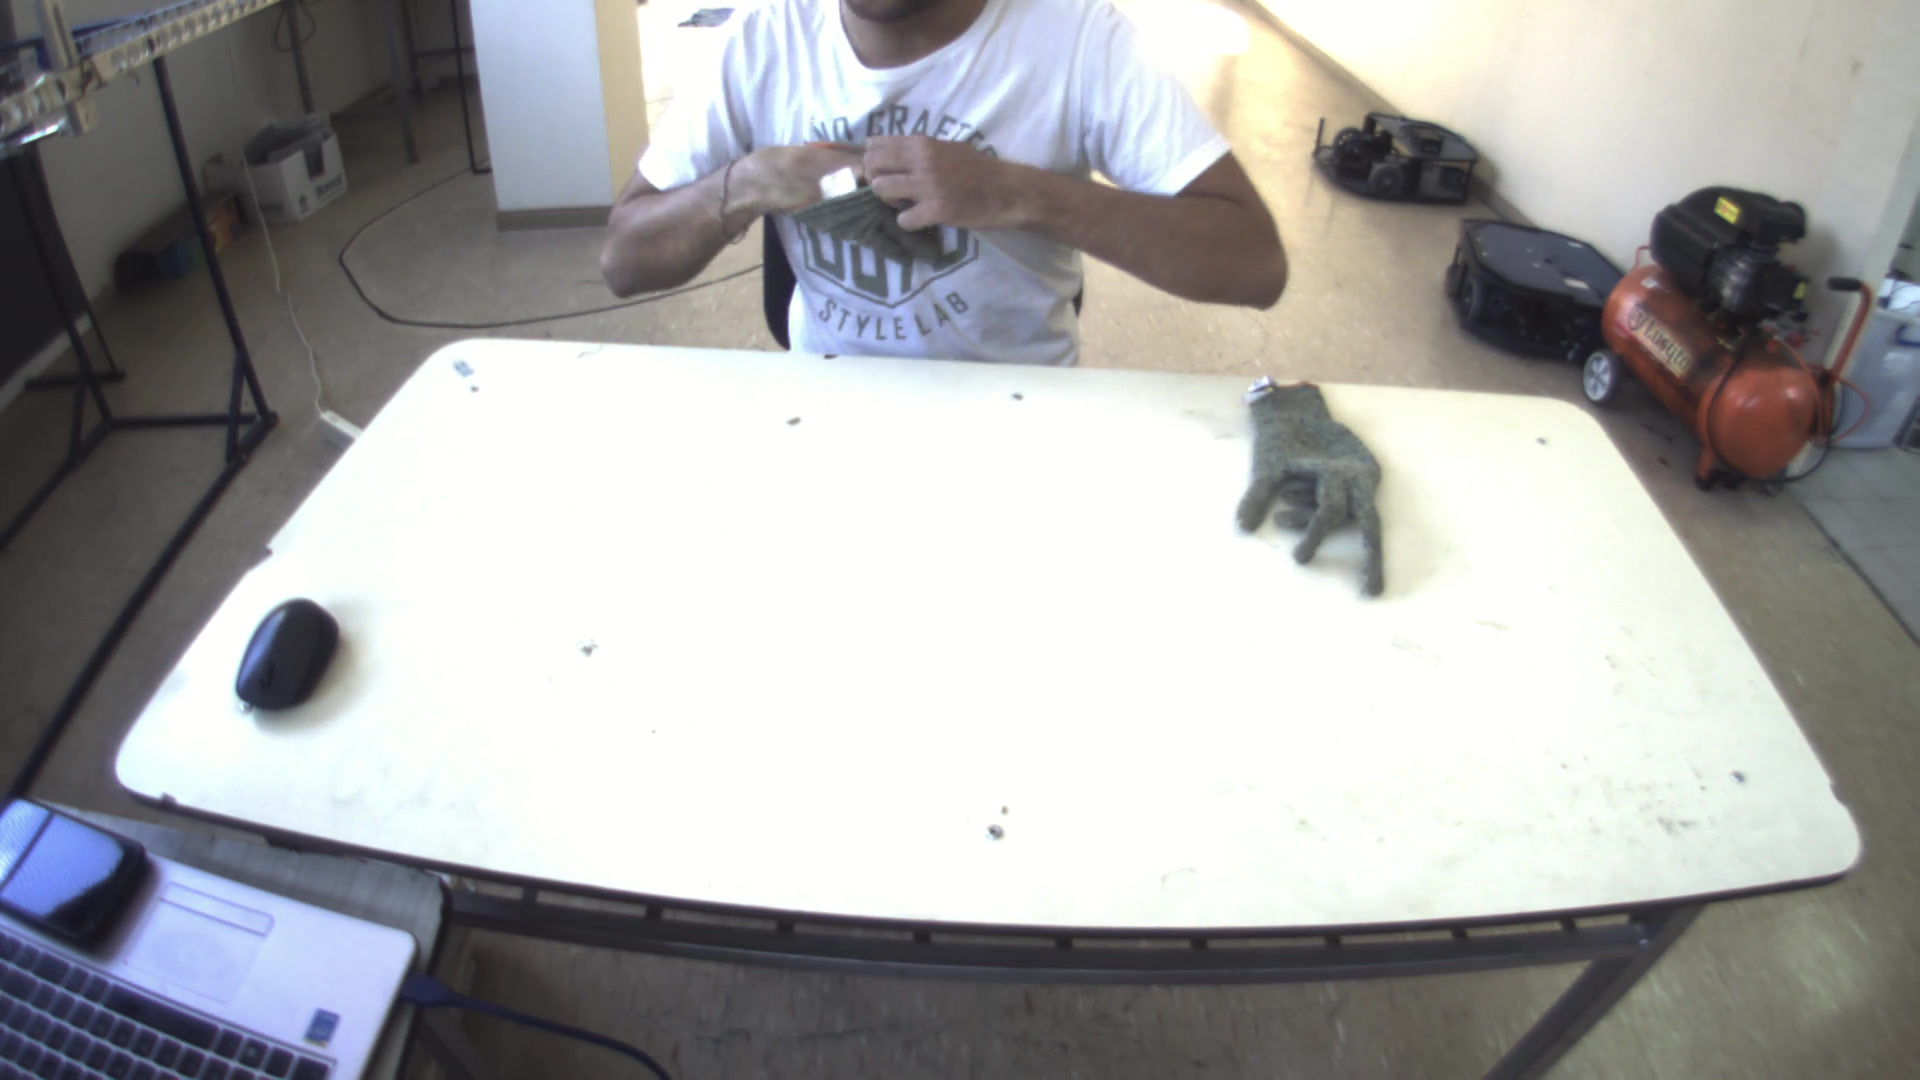hand: (851, 117, 1015, 243)
